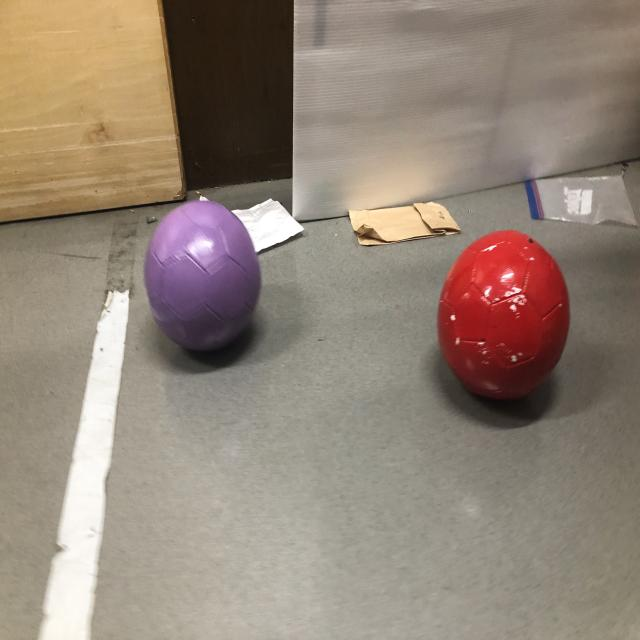purple_ball: (143, 198, 262, 353)
red_ball: (436, 234, 570, 404)
